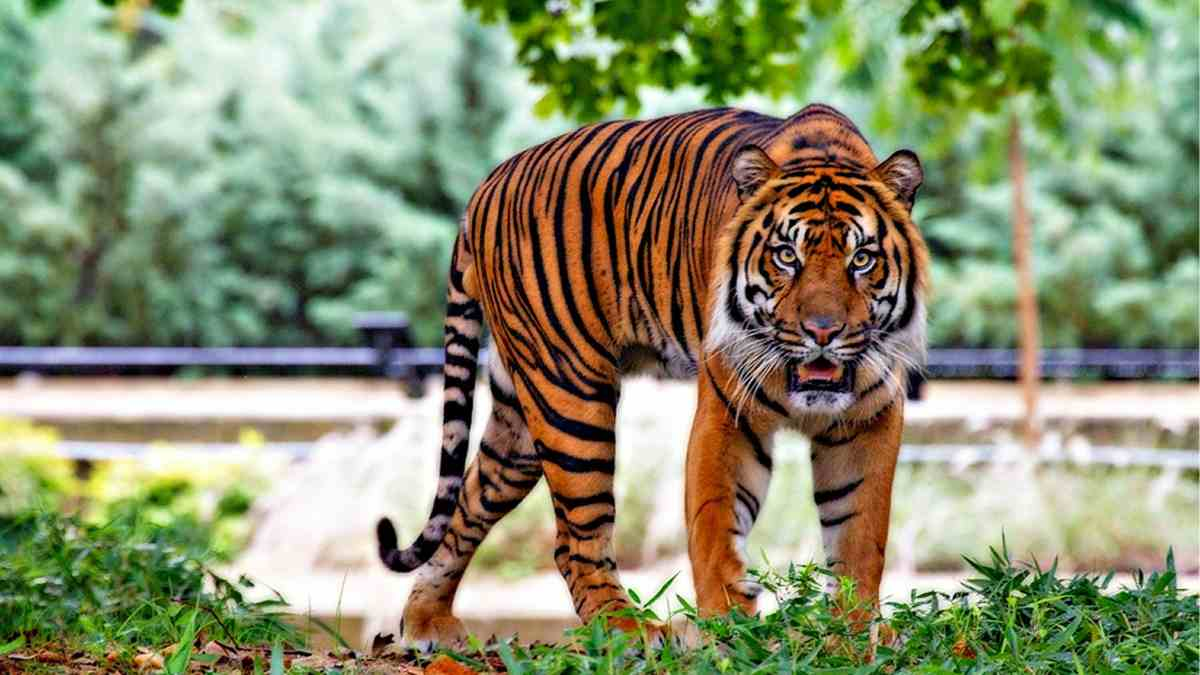Tigre: (372, 102, 942, 660)
